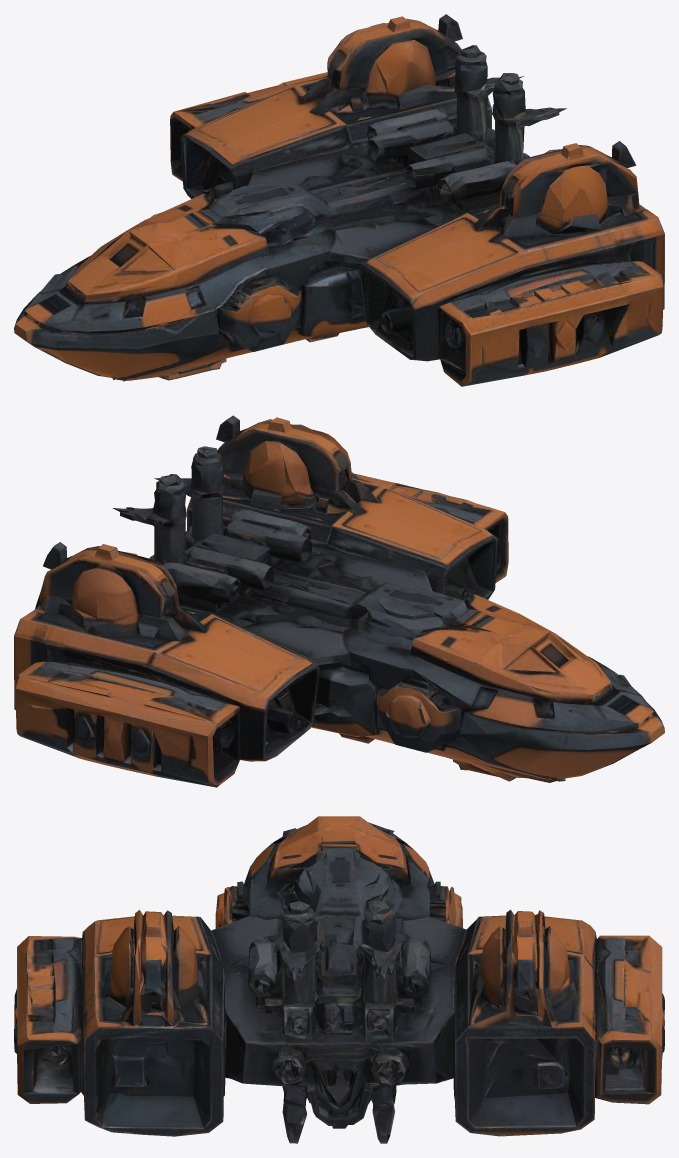
Rendered from enemy-vulcan-capital.glb.
The picture shows the model from 3 angles, top to bottom: view 1: azimuth 30°, elevation 25°; view 2: azimuth 150°, elevation 25°; view 3: azimuth 270°, elevation 25°; orthographic projection. The views are drawn at different scales.
Size of the model in its own units: 1.9 by 0.794 by 1.89.
1 material, 1 textured.
